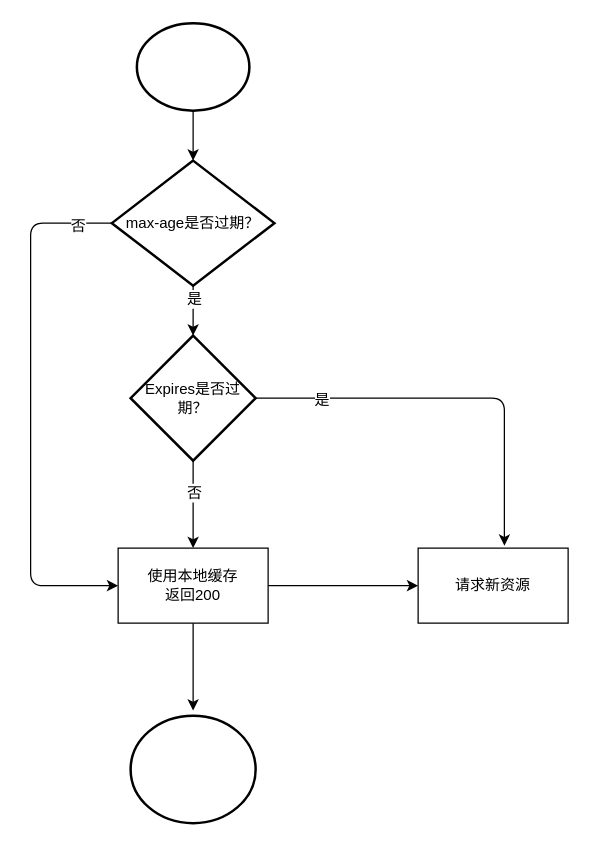
This 590x845 diagram has some shape labels left out. Each missing label, with the centre of its shape:
"开始" belongs at point (192, 66).
"结束" belongs at point (192, 769).
